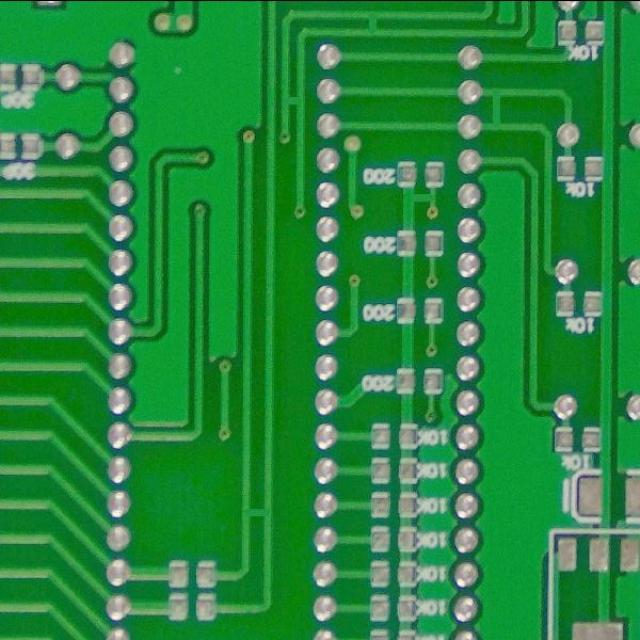Short_Circuit: (483, 80, 513, 139), (236, 496, 277, 530), (358, 4, 390, 43), (399, 187, 442, 209), (278, 88, 310, 115)
